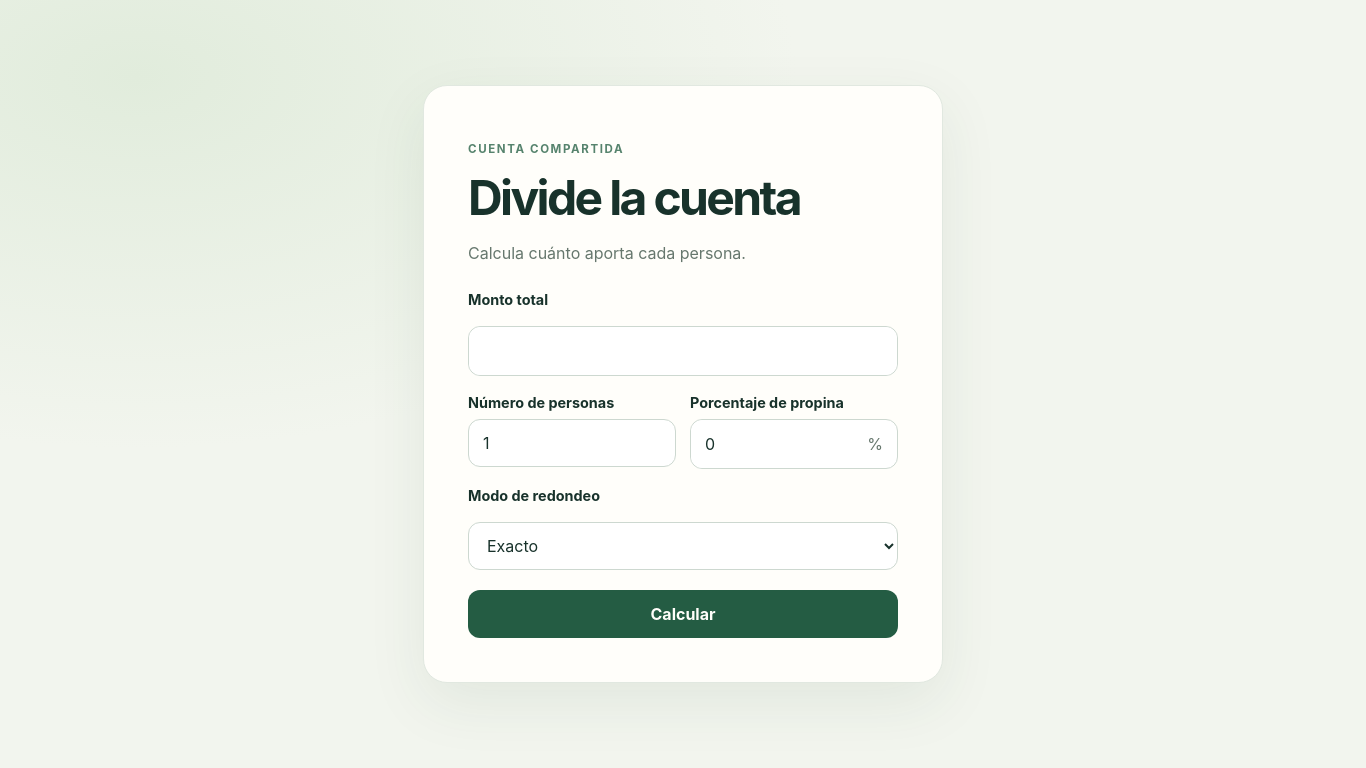
Test case: PantallaDivisor › calcula 27.50 para 100, 4 personas y 10% de propina
This screenshot has width=1366, height=768.
Type "100" into the field labelled "Monto total".
click(683, 350); type("100")  # box [469, 326, 897, 374]
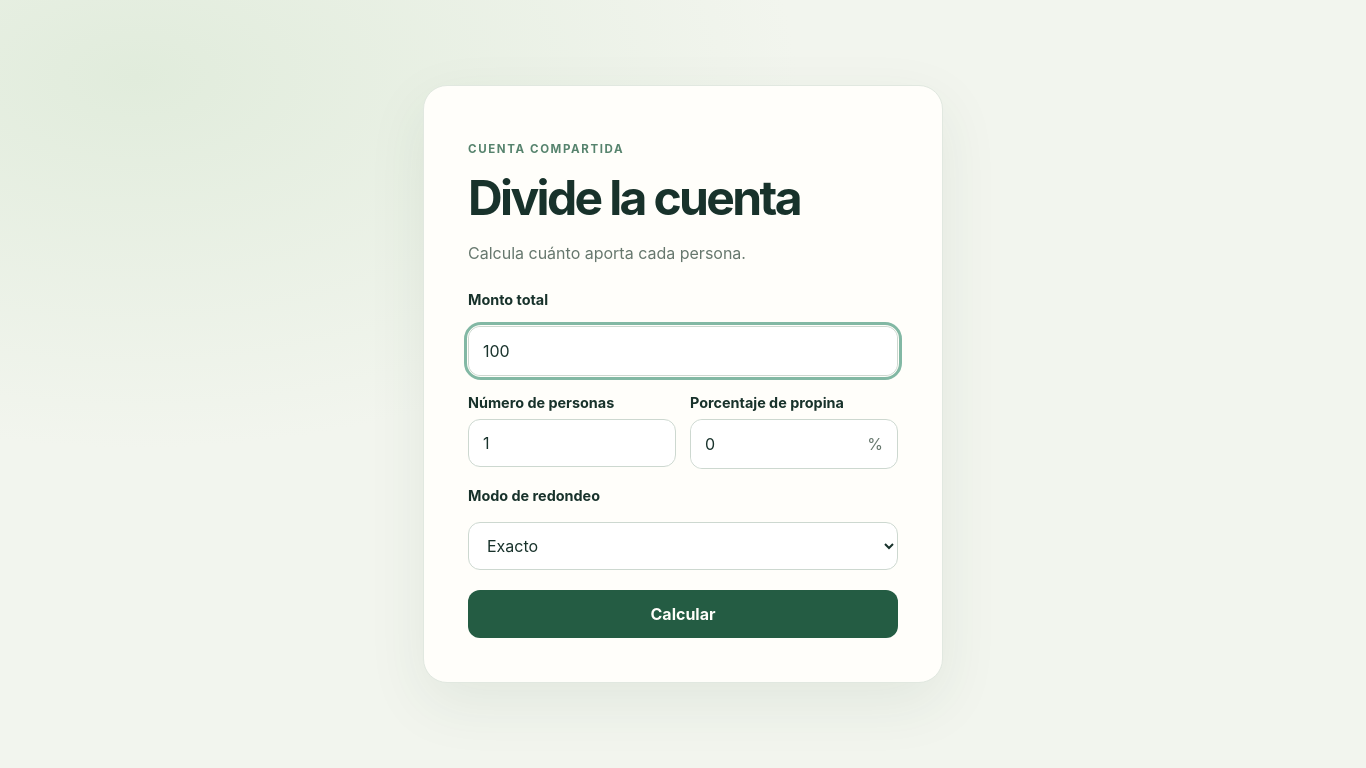
Replace the text in the field labelled "Número de personas" with "4" at (572, 442), box [468, 418, 676, 466]
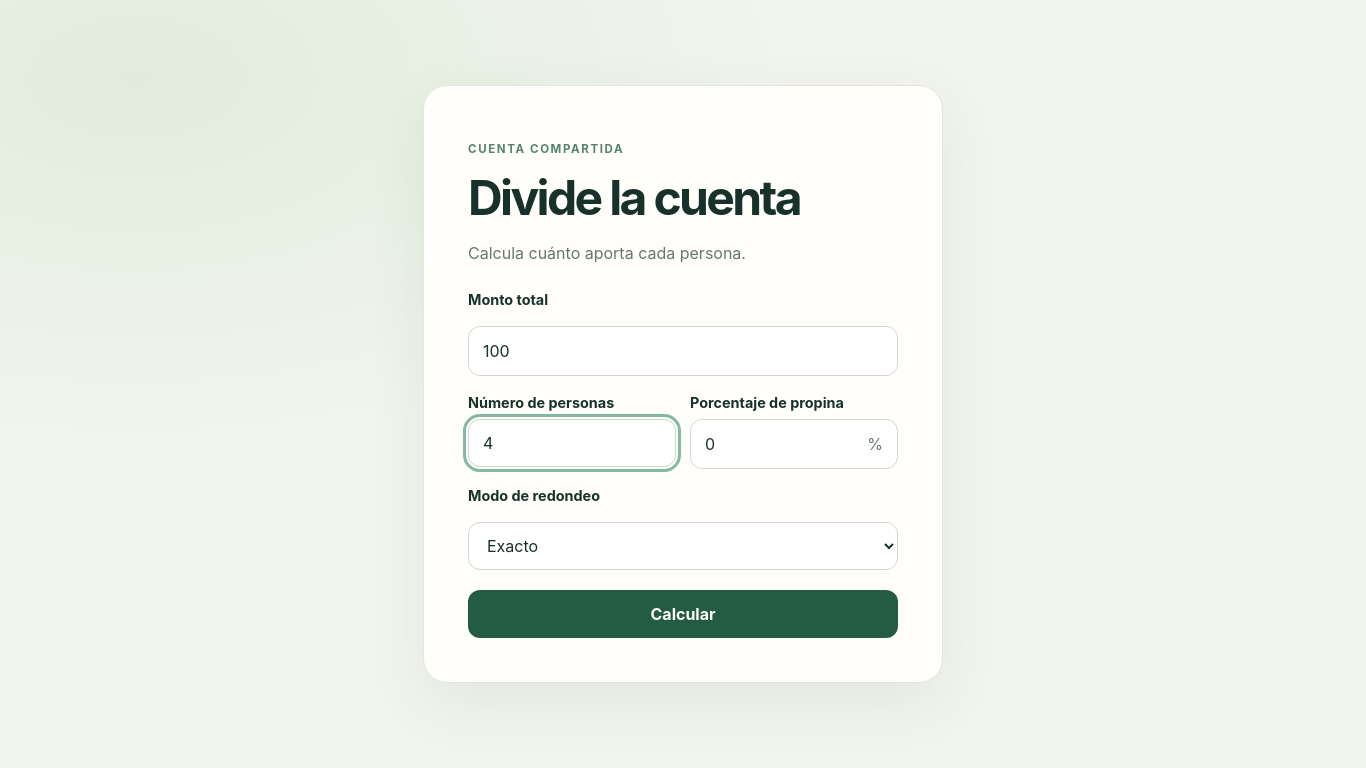
Replace the text in the field labelled "Porcentaje de propina" with "10" at (772, 444), box [691, 420, 853, 468]
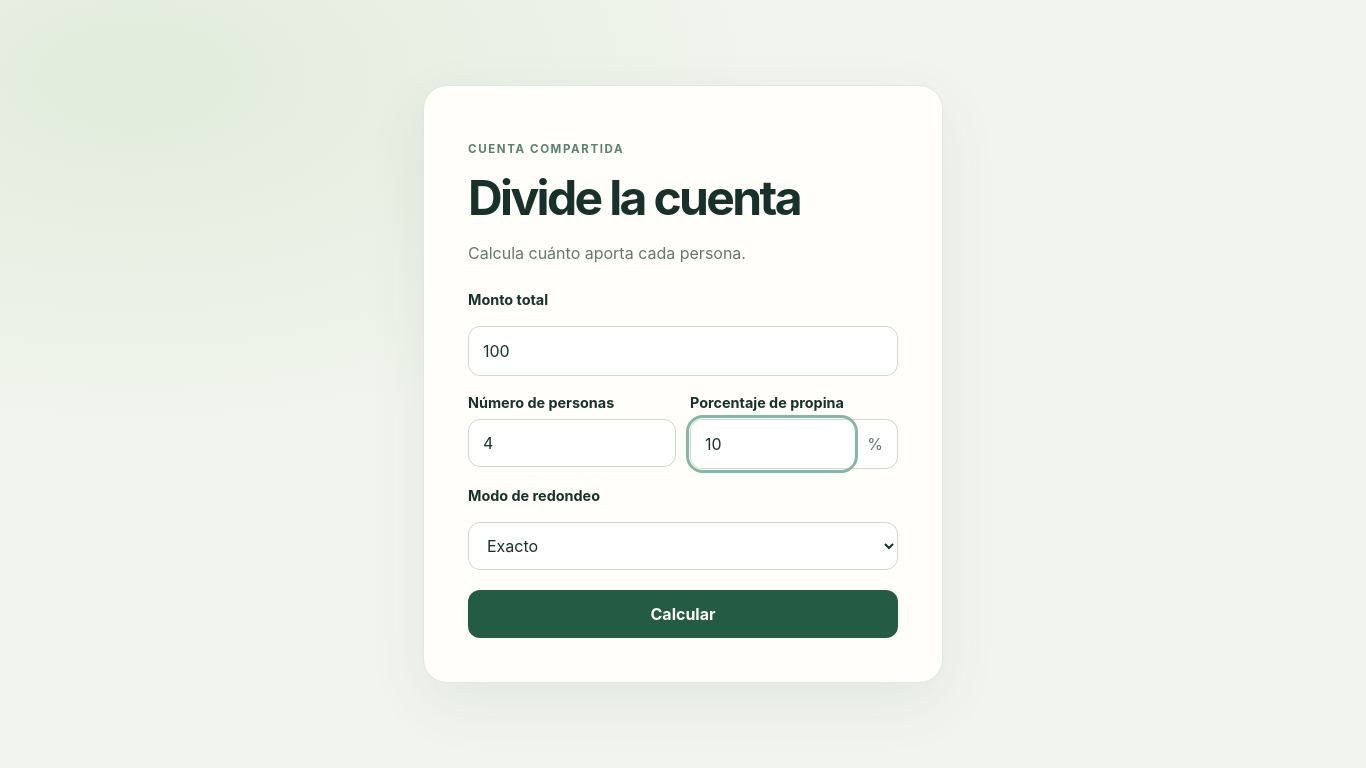
Click the button "Calcular".
click(683, 614)  # box [468, 590, 898, 638]
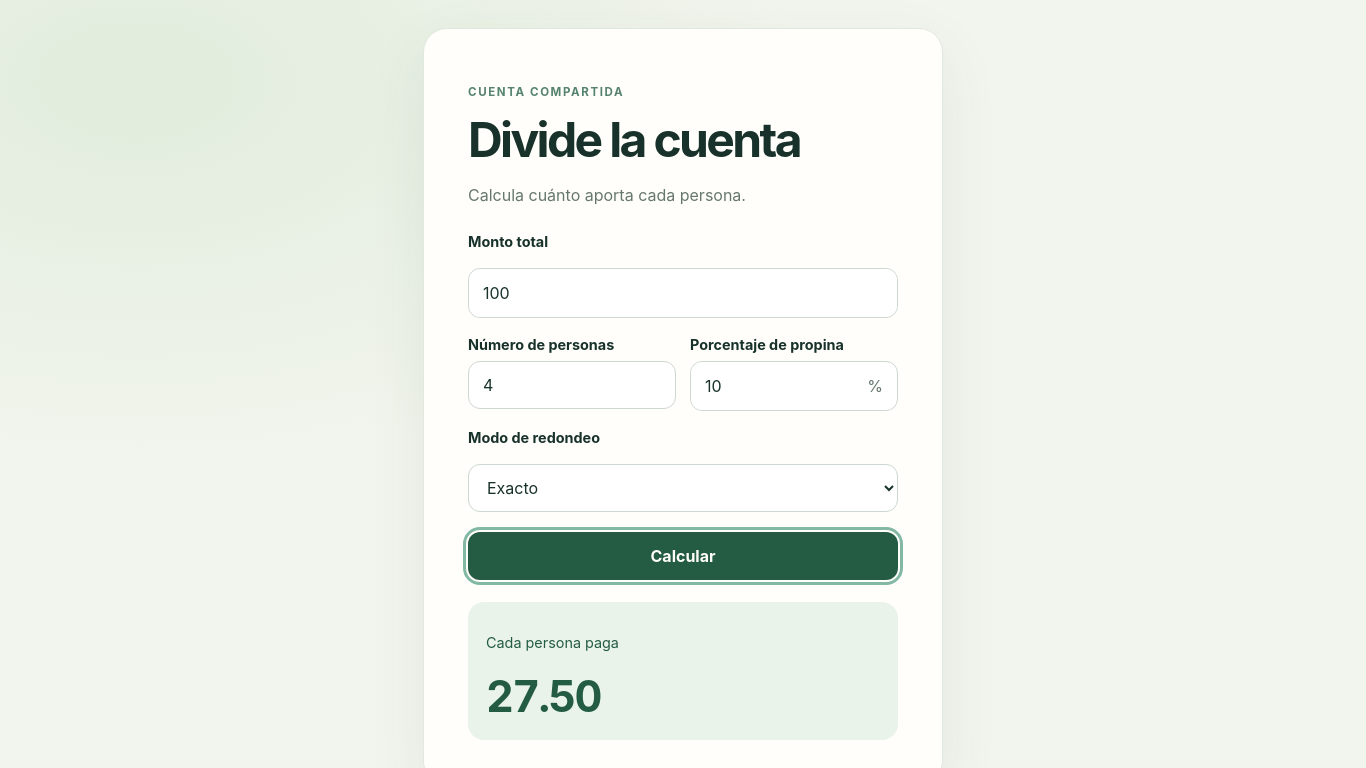
Expected: the message reads "27.50", [486, 670, 601, 722]
